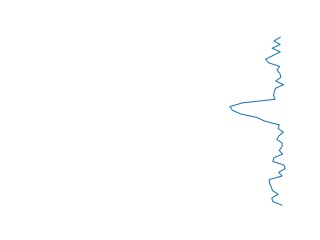interdistributaryEstuary: (225, 36, 296, 208)
